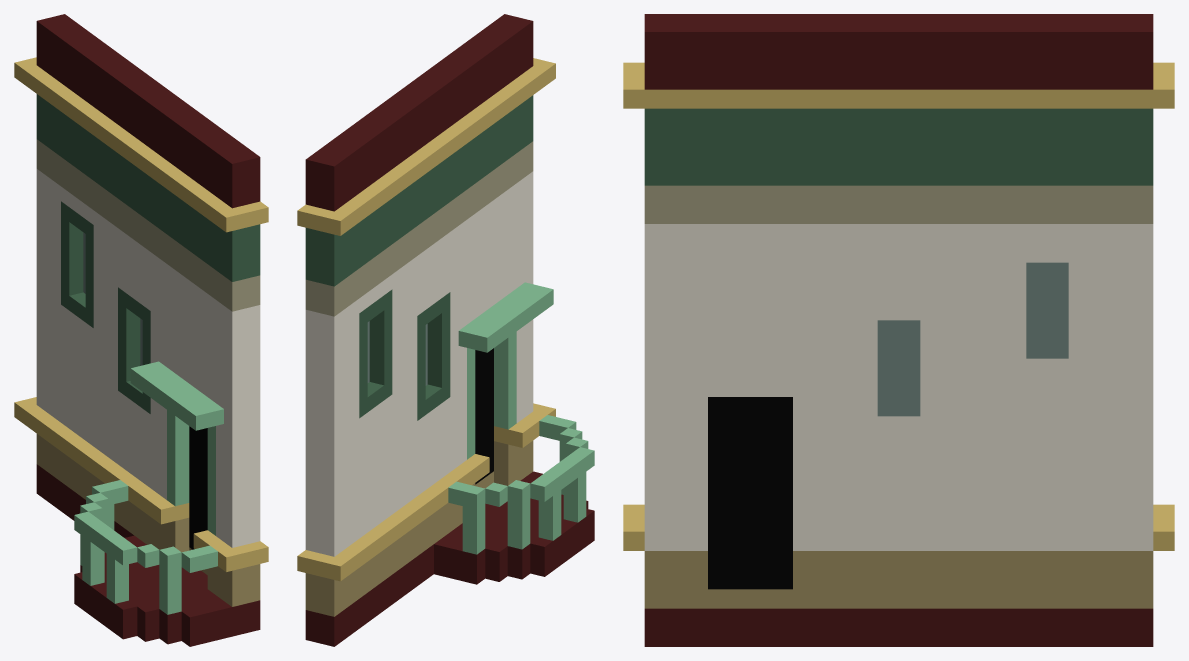
File: tile_4_right_nr.obj
3 renders of one model, left to right at view 1: azimuth 30°, elevation 25°; view 2: azimuth 150°, elevation 25°; view 3: azimuth 270°, elevation 25°, orthographic. The views are drawn at different scales.
Bounding box in the file's own units: 0.8 × 3.2 × 2.6.
